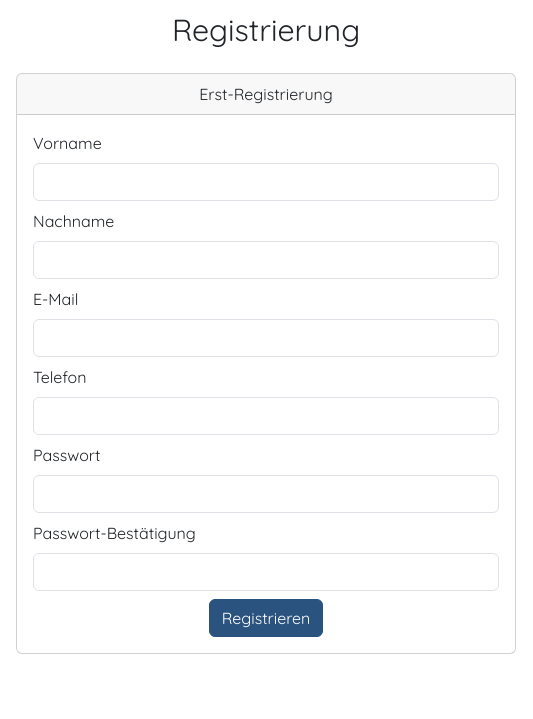
Test case: RegisterView › shows per-field conflict errors on a 422
The width and height of the screenshot is (533, 719).
Type "Max" into the field with id "givenname".
click(266, 182); type("Max")  # box [33,162,499,200]
Type "Muster" into the field with id "surname".
click(266, 260); type("Muster")  # box [33,240,499,278]
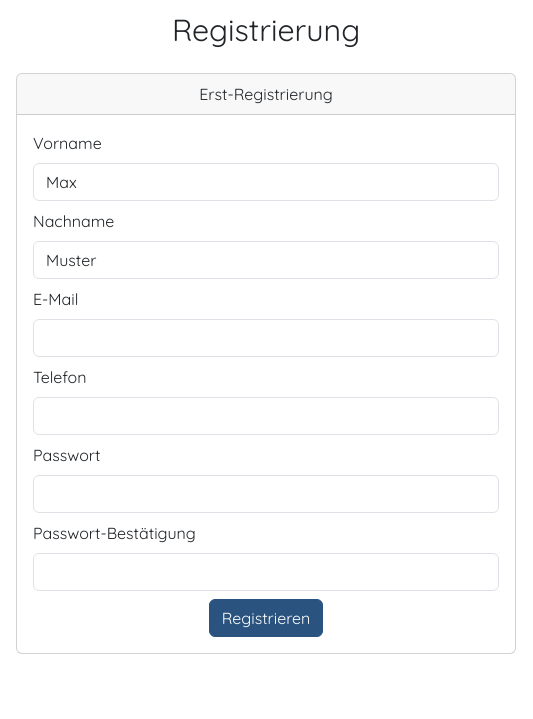
Type "max.muster@example.com" into the field with id "email".
click(266, 338); type("max.muster@example.com")  # box [33,318,499,356]
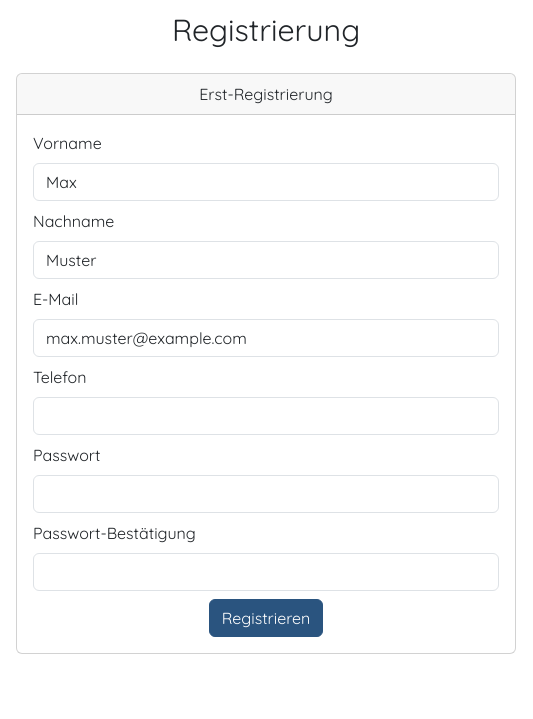
Type "+43 660 1234567" into the field labelled "Telefon".
click(266, 416); type("+43 660 1234567")  # box [33,396,499,434]
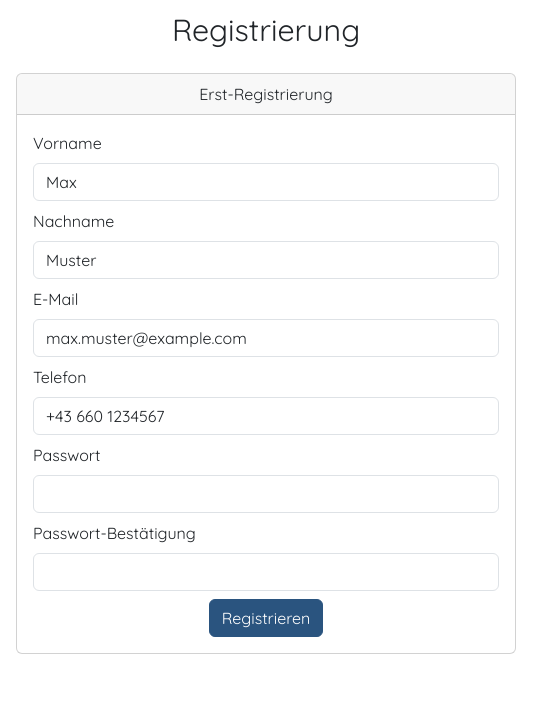
Type "Passw0rd1" into the password field labelled "Passwort".
click(266, 494); type("Passw0rd1")  # box [33,474,499,512]
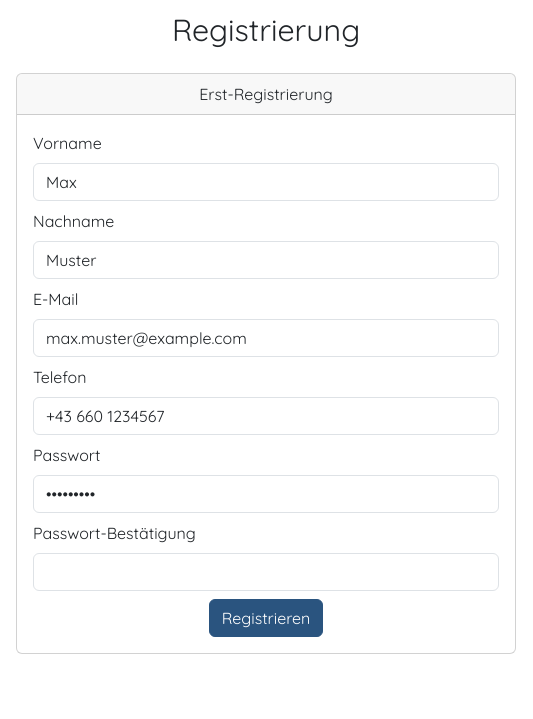
Type "Passw0rd1" into the password field labelled "Passwort-Bestätigung".
click(266, 572); type("Passw0rd1")  # box [33,552,499,590]
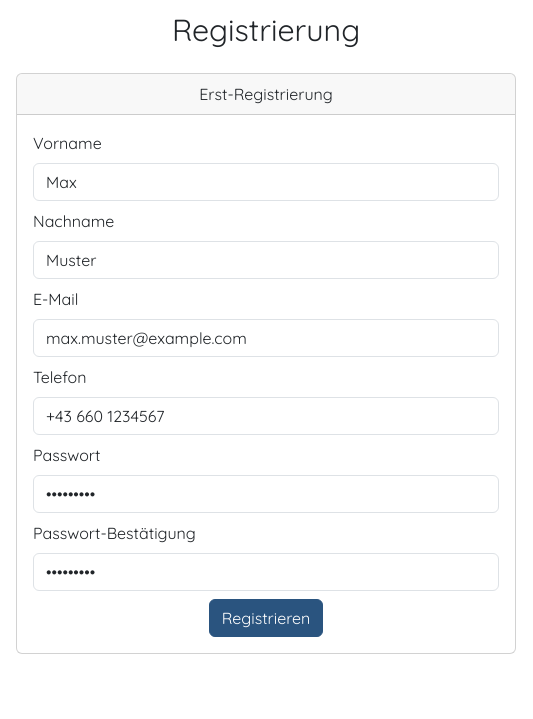
Submit the form
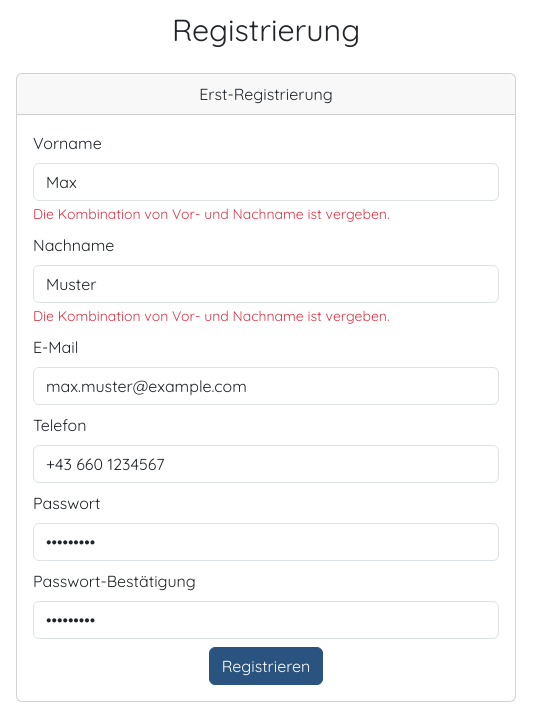
Check: the text "Die Kombination von Vor- und Nachname ist vergeben." is shown, box [33,204,389,222]
